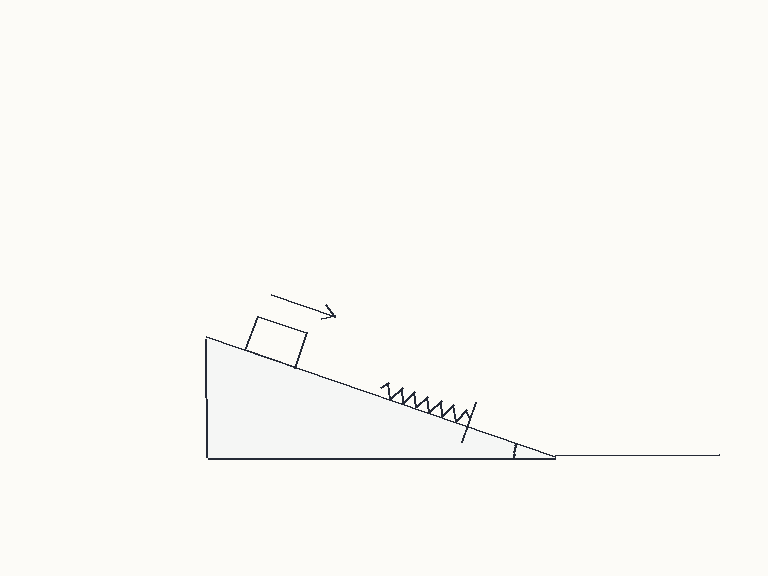block: (243, 313, 308, 369)
ramp: (205, 336, 556, 459)
spring: (378, 381, 472, 423)
